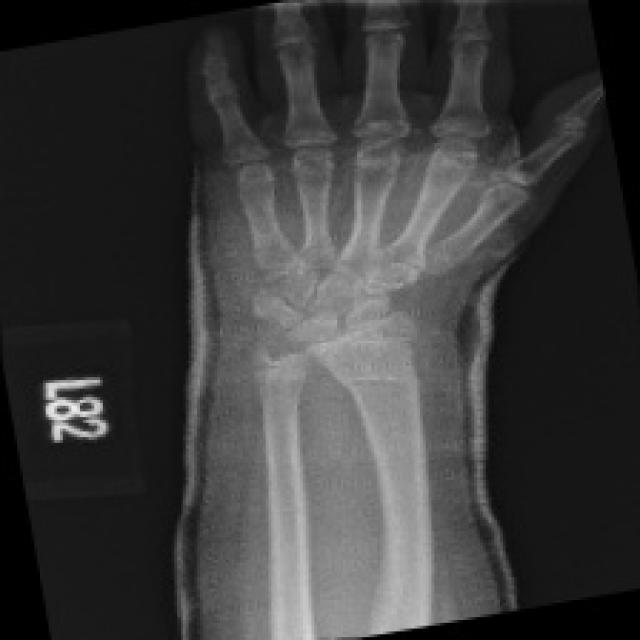fracture: (316, 349, 445, 429)
